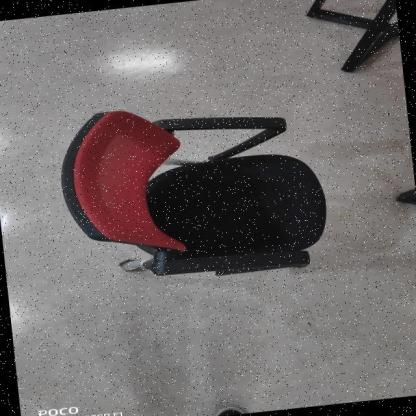Chair: (20, 67, 364, 317)
